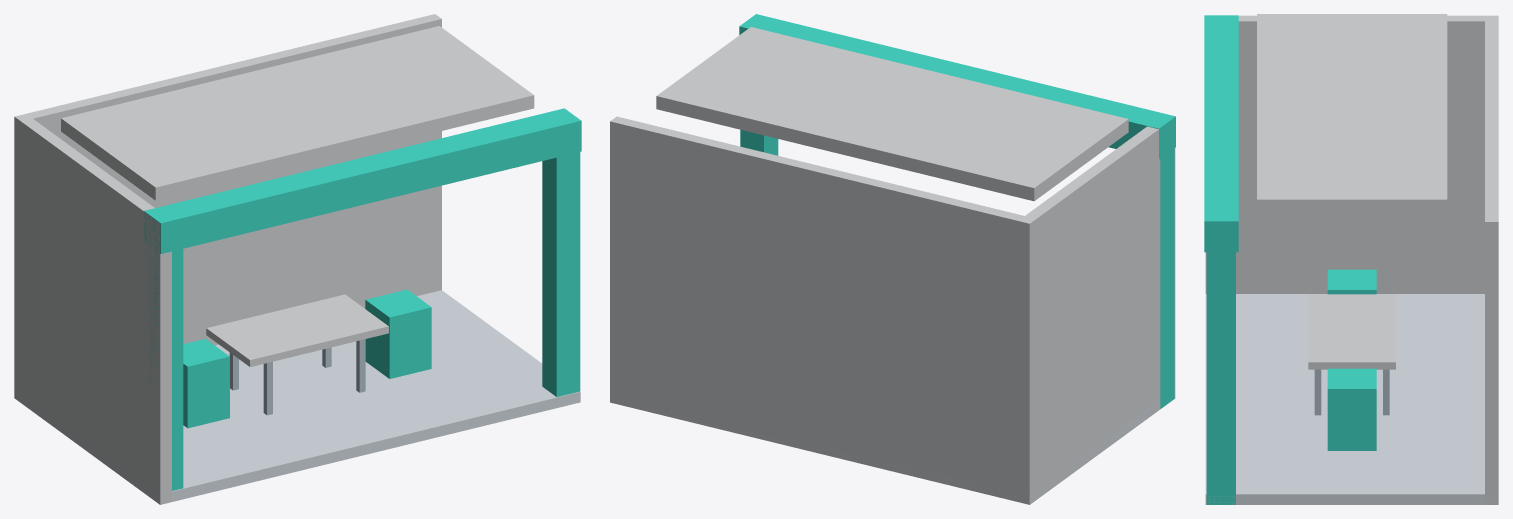
3 renders of one model, left to right at view 1: azimuth 30°, elevation 25°; view 2: azimuth 150°, elevation 25°; view 3: azimuth 270°, elevation 25°, orthographic.
Parts seen in each view (by area): view 1: Exhibition Booth Concept; view 2: Exhibition Booth Concept; view 3: Exhibition Booth Concept.
Boxes of the visible parts, x1,y1,x2,y2 form: Exhibition Booth Concept: (14, 14, 581, 504); Exhibition Booth Concept: (610, 14, 1175, 504); Exhibition Booth Concept: (1204, 14, 1498, 504).
Size of the model in its own units: 5 by 3.34 by 3.01.
